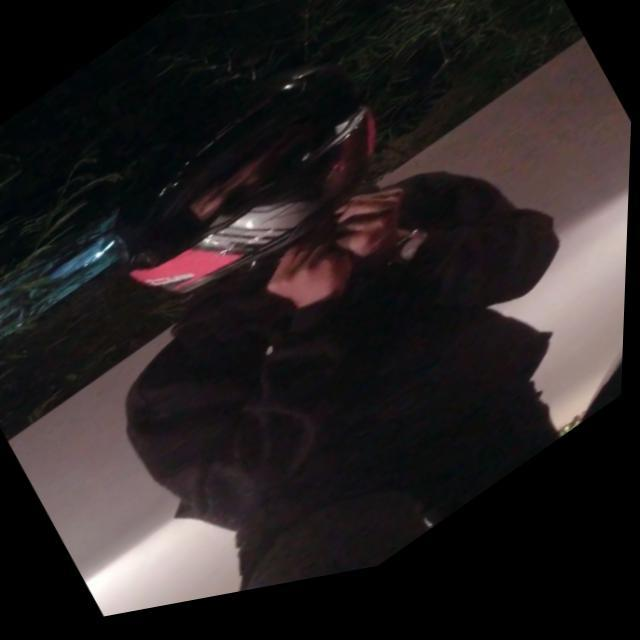Helmet: (93, 61, 385, 302)
